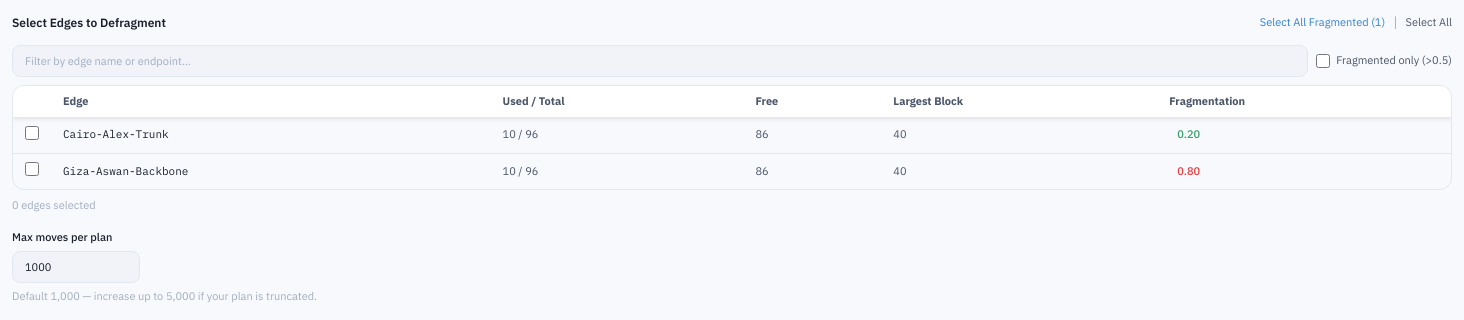
it: DefragWizardSelect — search & filter › filters by endpoint node name
In the search field with test id "defrag-select-filter": [660, 61] box [12,45,1308,77], type "Aswan"
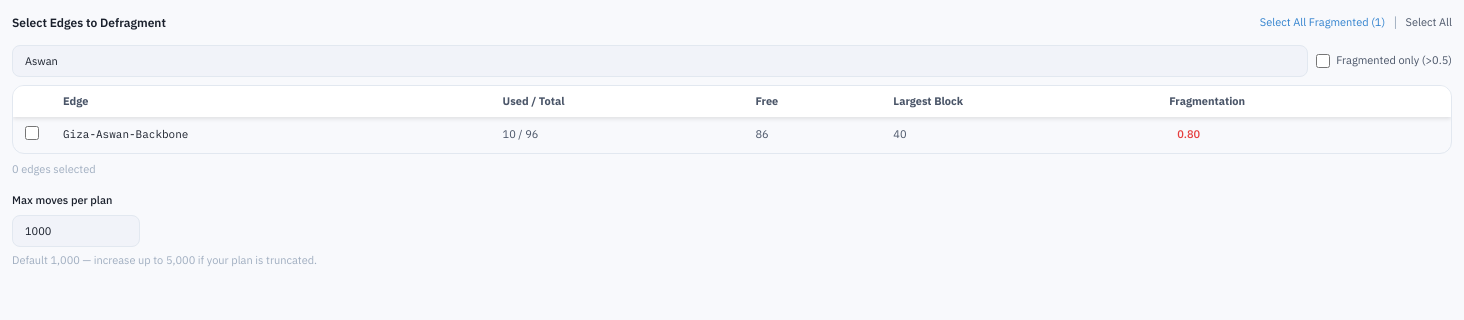
Expected: the text "Giza-Aswan-Backbone" is shown, [51,117,491,153]
Expected: the text "Cairo-Alex-Trunk" is gone
